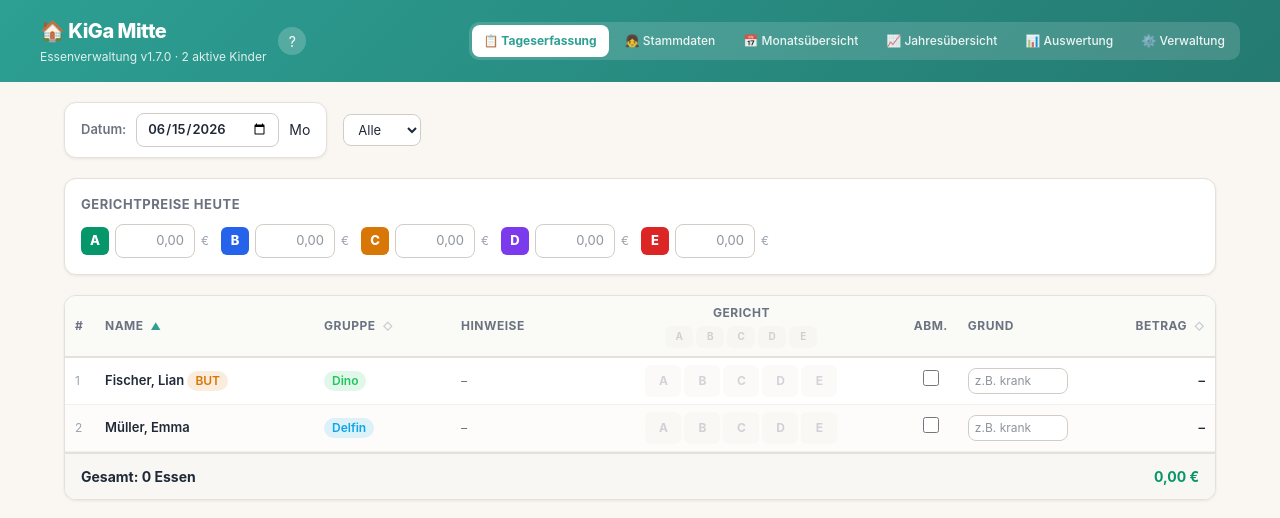
Test: Analytics › zeigt Empty-State bei leerem Jahr
The width and height of the screenshot is (1280, 518).
expect the text "Müller, Emma" is shown: met, box x1=95 y1=404 x2=314 y2=451
Click the button "📊 Auswertung": [1069, 41] box x1=1013 y1=25 x2=1125 y2=57
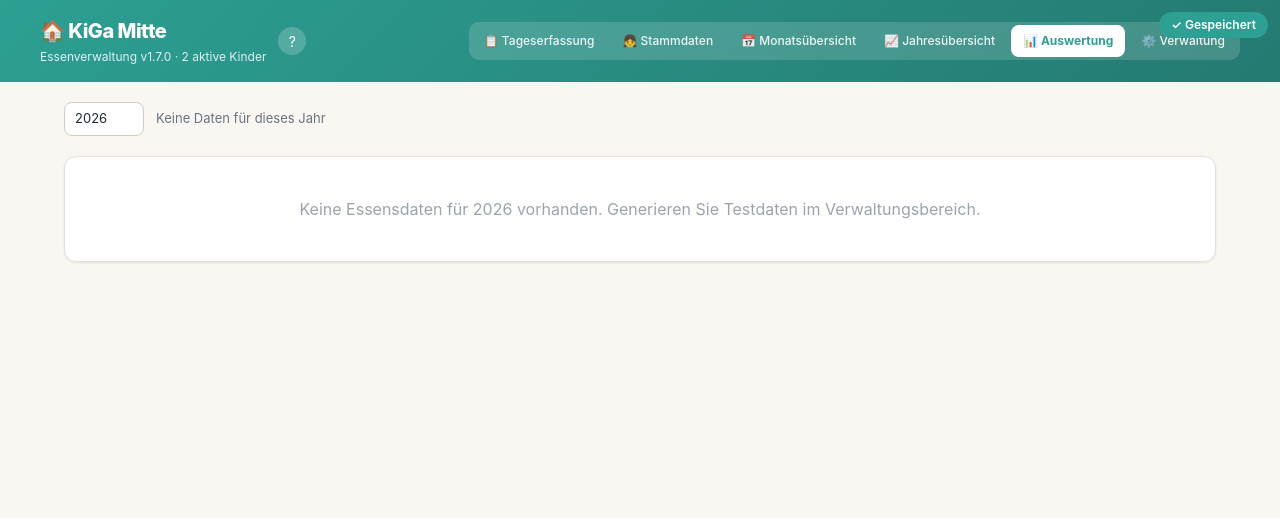
expect the text "Keine Essensdaten" is shown: met, box x1=300 y1=198 x2=473 y2=218
expect the text "2026" is shown: met, box x1=473 y1=198 x2=512 y2=218
